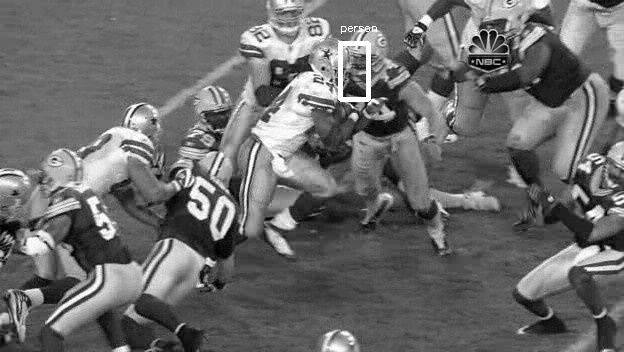person: (317, 43, 351, 86), (316, 43, 350, 86), (318, 43, 352, 86), (317, 42, 351, 85), (317, 44, 351, 87)
target_negative: (406, 121, 567, 210), (111, 304, 586, 334), (66, 210, 128, 304), (206, 233, 222, 331), (546, 113, 552, 275), (604, 156, 609, 323)
